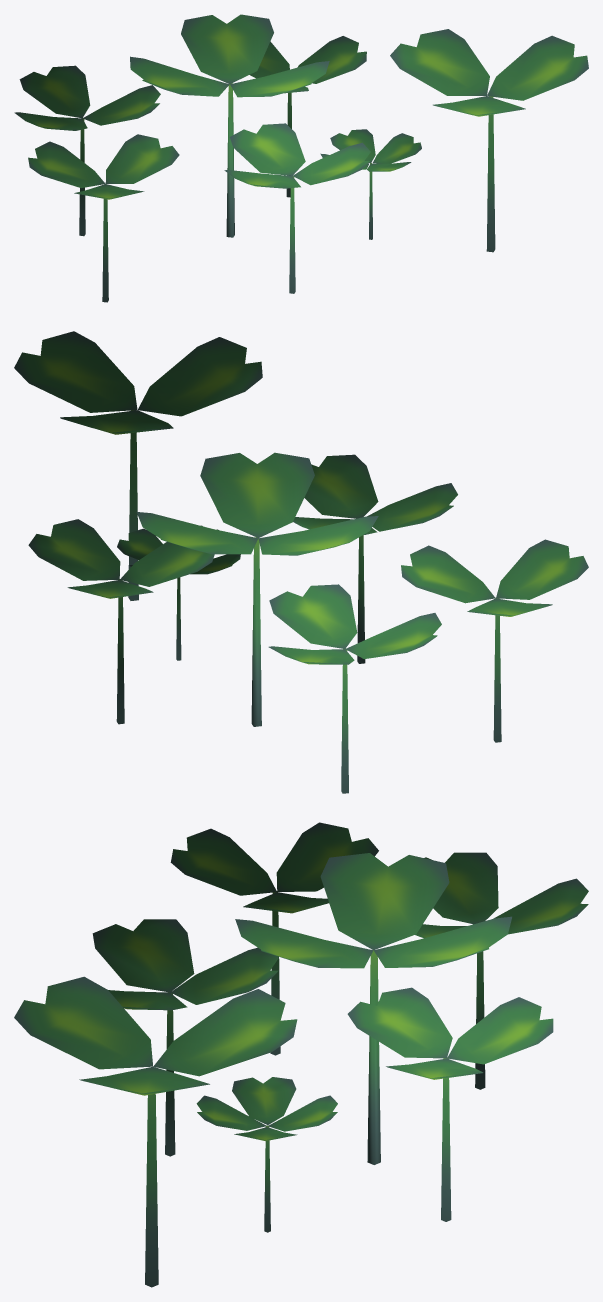
The model's file is Clovers_Mesh.fbx.
The picture shows the model from 3 angles, top to bottom: view 1: azimuth 30°, elevation 25°; view 2: azimuth 150°, elevation 25°; view 3: azimuth 270°, elevation 25°; orthographic projection. The views are drawn at different scales.
Visible parts, largest first — view 1: Clovers; view 2: Clovers; view 3: Clovers.
Boxes of the visible parts, left/top/right/bottom form: Clovers: left=14, top=14, right=588, bottom=302; Clovers: left=14, top=331, right=588, bottom=793; Clovers: left=14, top=822, right=588, bottom=1287.
Bounding box in the file's own units: 0.5134 × 0.183 × 0.3767.
